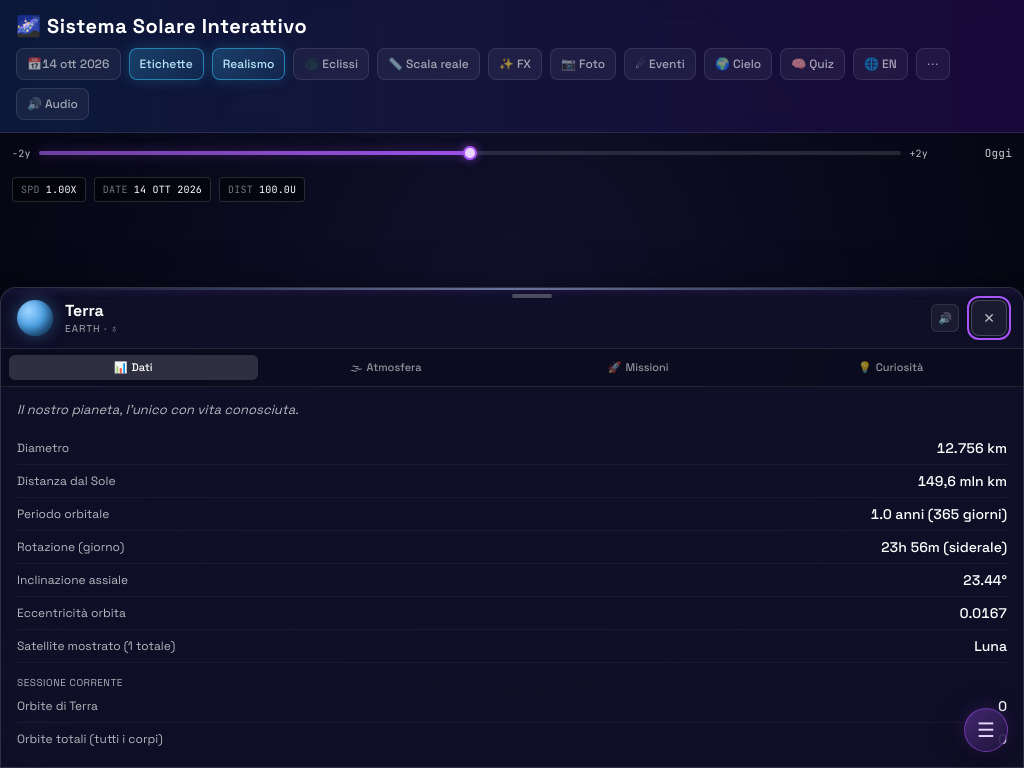
App — layout mobile › il menu "⋯" su mobile raccoglie anche i toggle nascosti
The width and height of the screenshot is (1024, 768).
Click the button named "altre opzioni" at (933, 64), box left=916, top=48, right=950, bottom=80
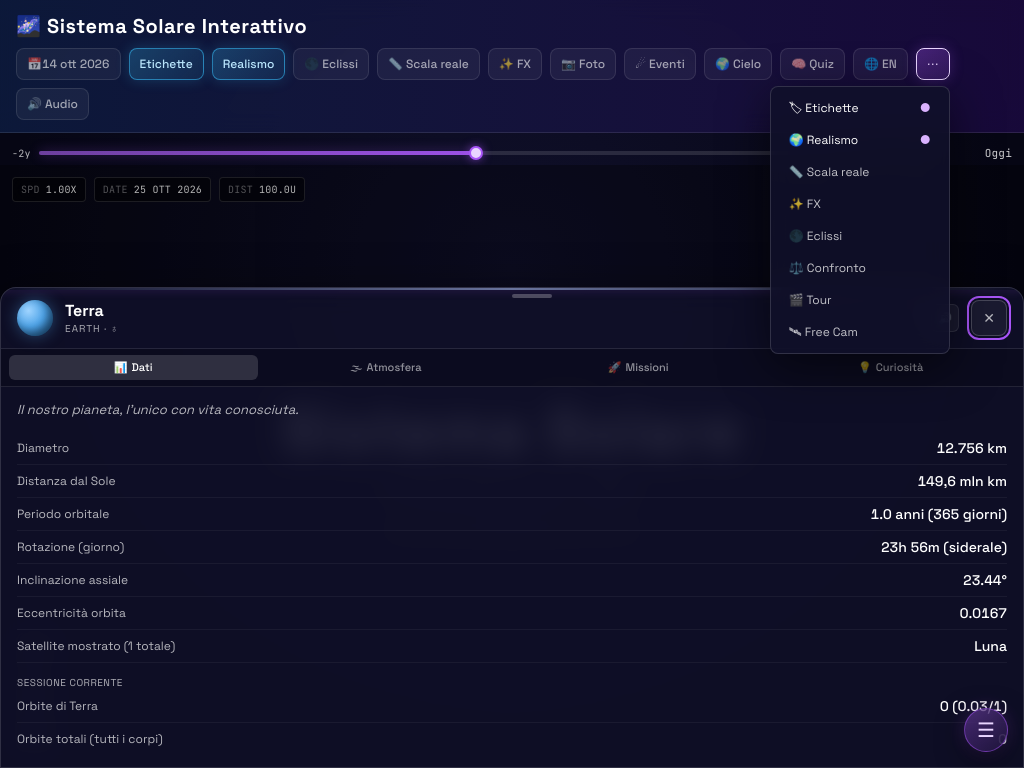
Expected: the menu item "🌍 Realismo ●" is shown, left=777, top=125, right=943, bottom=155
Expected: the menu item "🏷 Etichette ●" is shown, left=777, top=93, right=943, bottom=123
